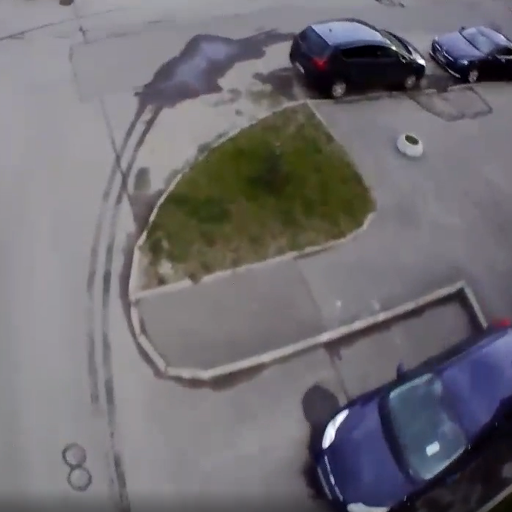Car: (308, 322, 511, 511), (288, 16, 425, 92), (429, 16, 512, 80)
